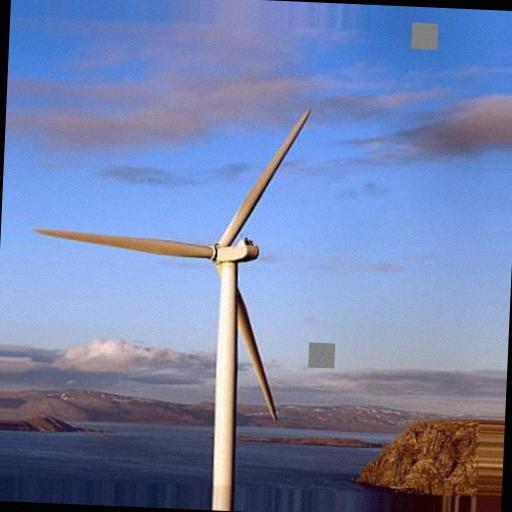wind turbine: (32, 104, 314, 479)
